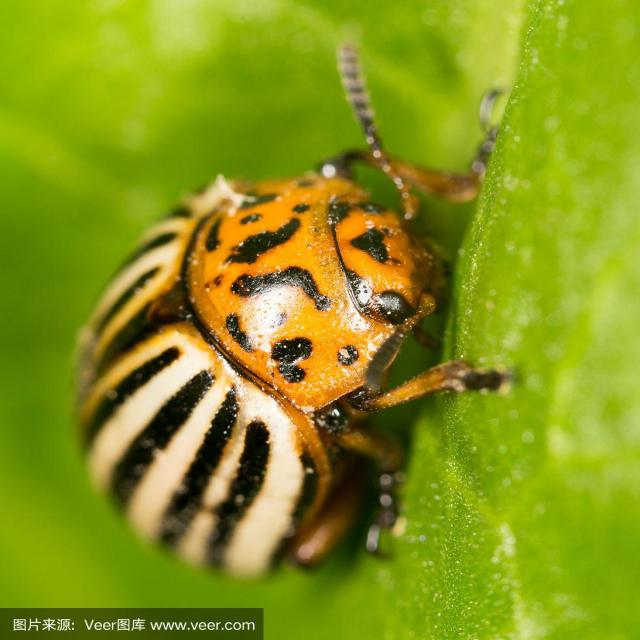ShuCaiHuaBanChong-Grown-: (46, 152, 485, 596)
